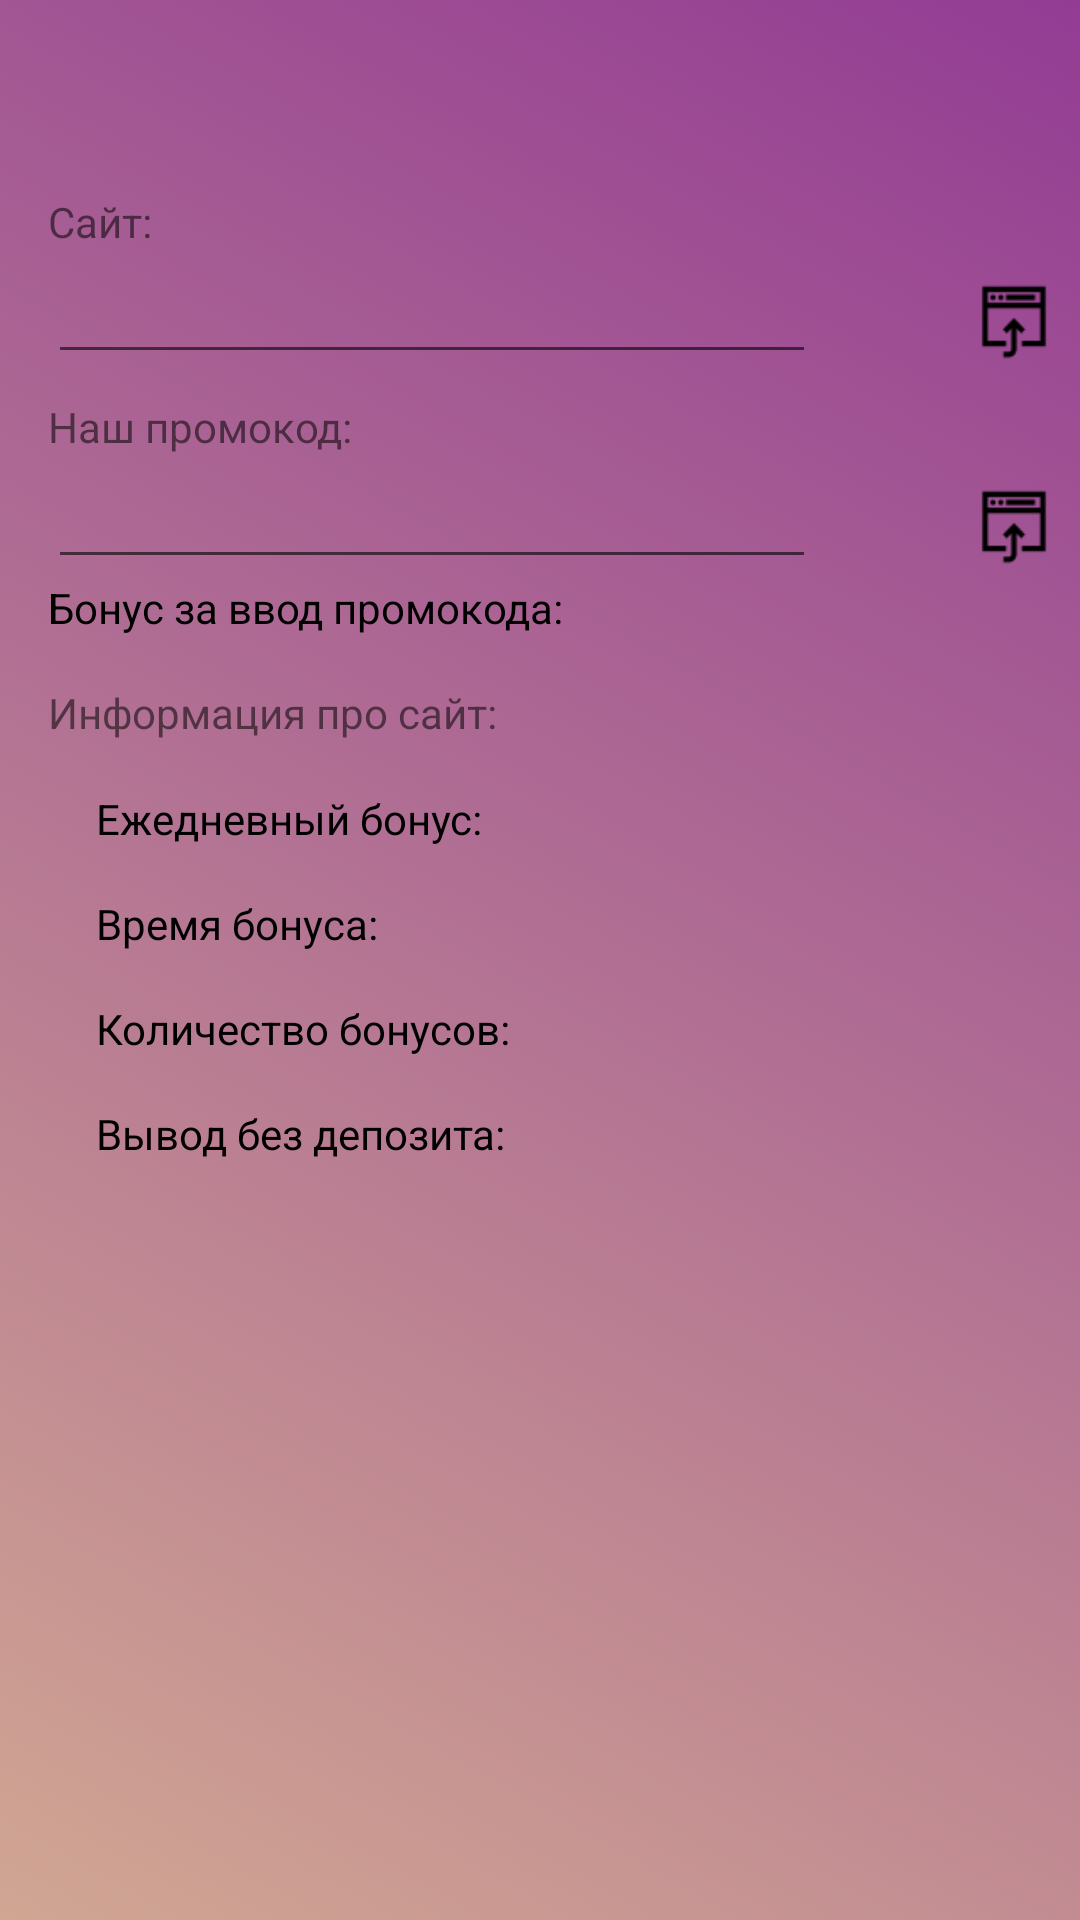

Icon click points for this 1080px x 1920px phone screenshot, format [x,y]:
browser: [1014,322], [1014,527]
